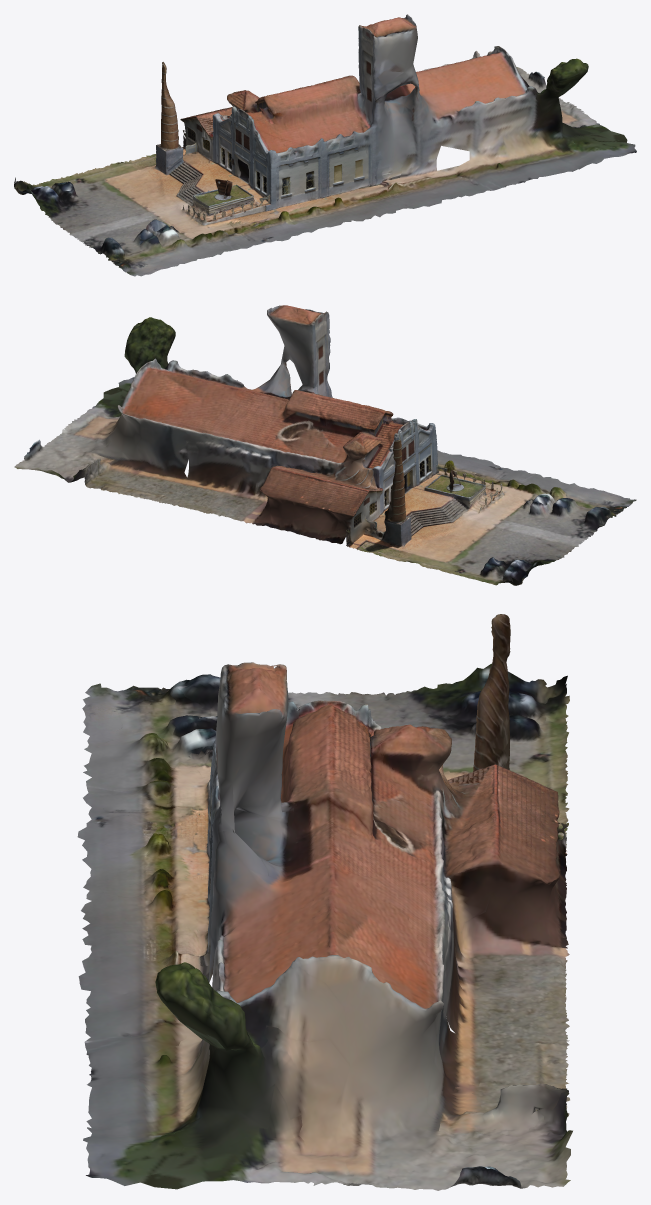
Rendered from modelo.glb.
3 renders of one model, top to bottom at view 1: azimuth 30°, elevation 25°; view 2: azimuth 150°, elevation 25°; view 3: azimuth 270°, elevation 25°, orthographic. The views are drawn at different scales.
Parts seen in each view (by area): view 1: 3DModel.001; view 2: 3DModel.001; view 3: 3DModel.001.
Part boxes in pixels (x1=…): 3DModel.001: x1=14, y1=14, x2=636, y2=276; 3DModel.001: x1=14, y1=305, x2=636, y2=585; 3DModel.001: x1=77, y1=614, x2=572, y2=1190.
Size of the model in its own units: 3.72 by 1.08 by 1.56.
1 material, 1 textured.
